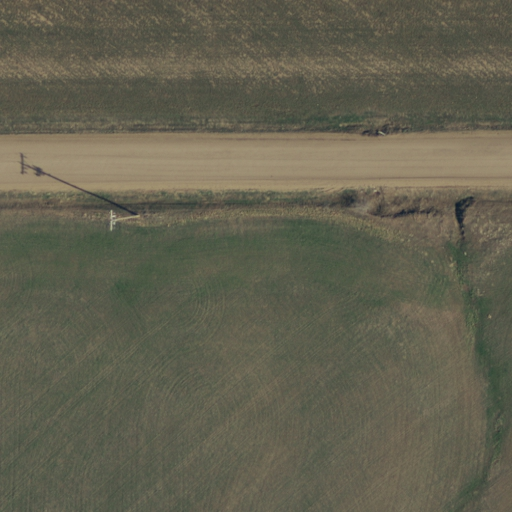DT: (100, 202, 154, 242)
